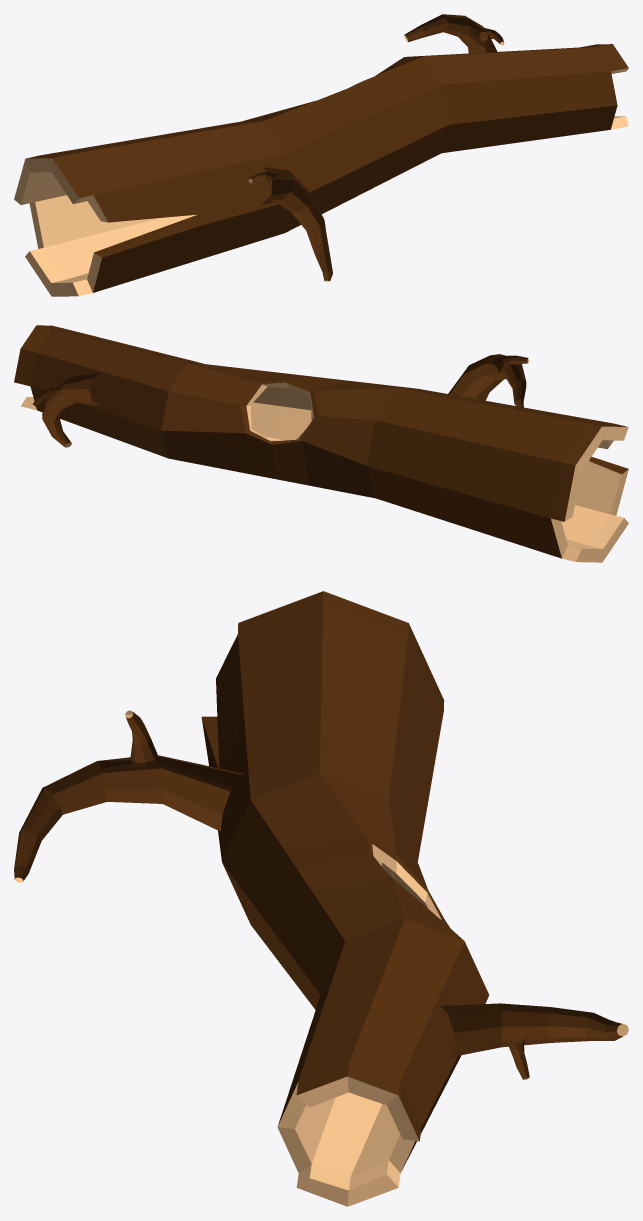
Rendered from wood_log1.fbx.
The picture shows the model from 3 angles, top to bottom: view 1: azimuth 30°, elevation 25°; view 2: azimuth 150°, elevation 25°; view 3: azimuth 270°, elevation 25°; orthographic projection. The views are drawn at different scales.
Parts seen in each view (by area): view 1: Circle; view 2: Circle; view 3: Circle.
Part boxes in pixels (x1,y1,x2,y2): Circle: [14, 14, 628, 296]; Circle: [14, 325, 628, 562]; Circle: [14, 591, 628, 1206].
Bounding box in the file's own units: 801 × 186 × 473.
